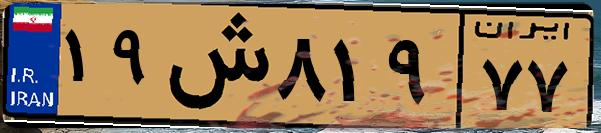1: (330, 28, 385, 110), (57, 26, 110, 100)
7: (475, 38, 525, 113), (525, 38, 570, 115)
8: (270, 28, 330, 110)
9: (385, 28, 445, 110), (110, 28, 158, 98)
ش: (158, 12, 270, 120)
